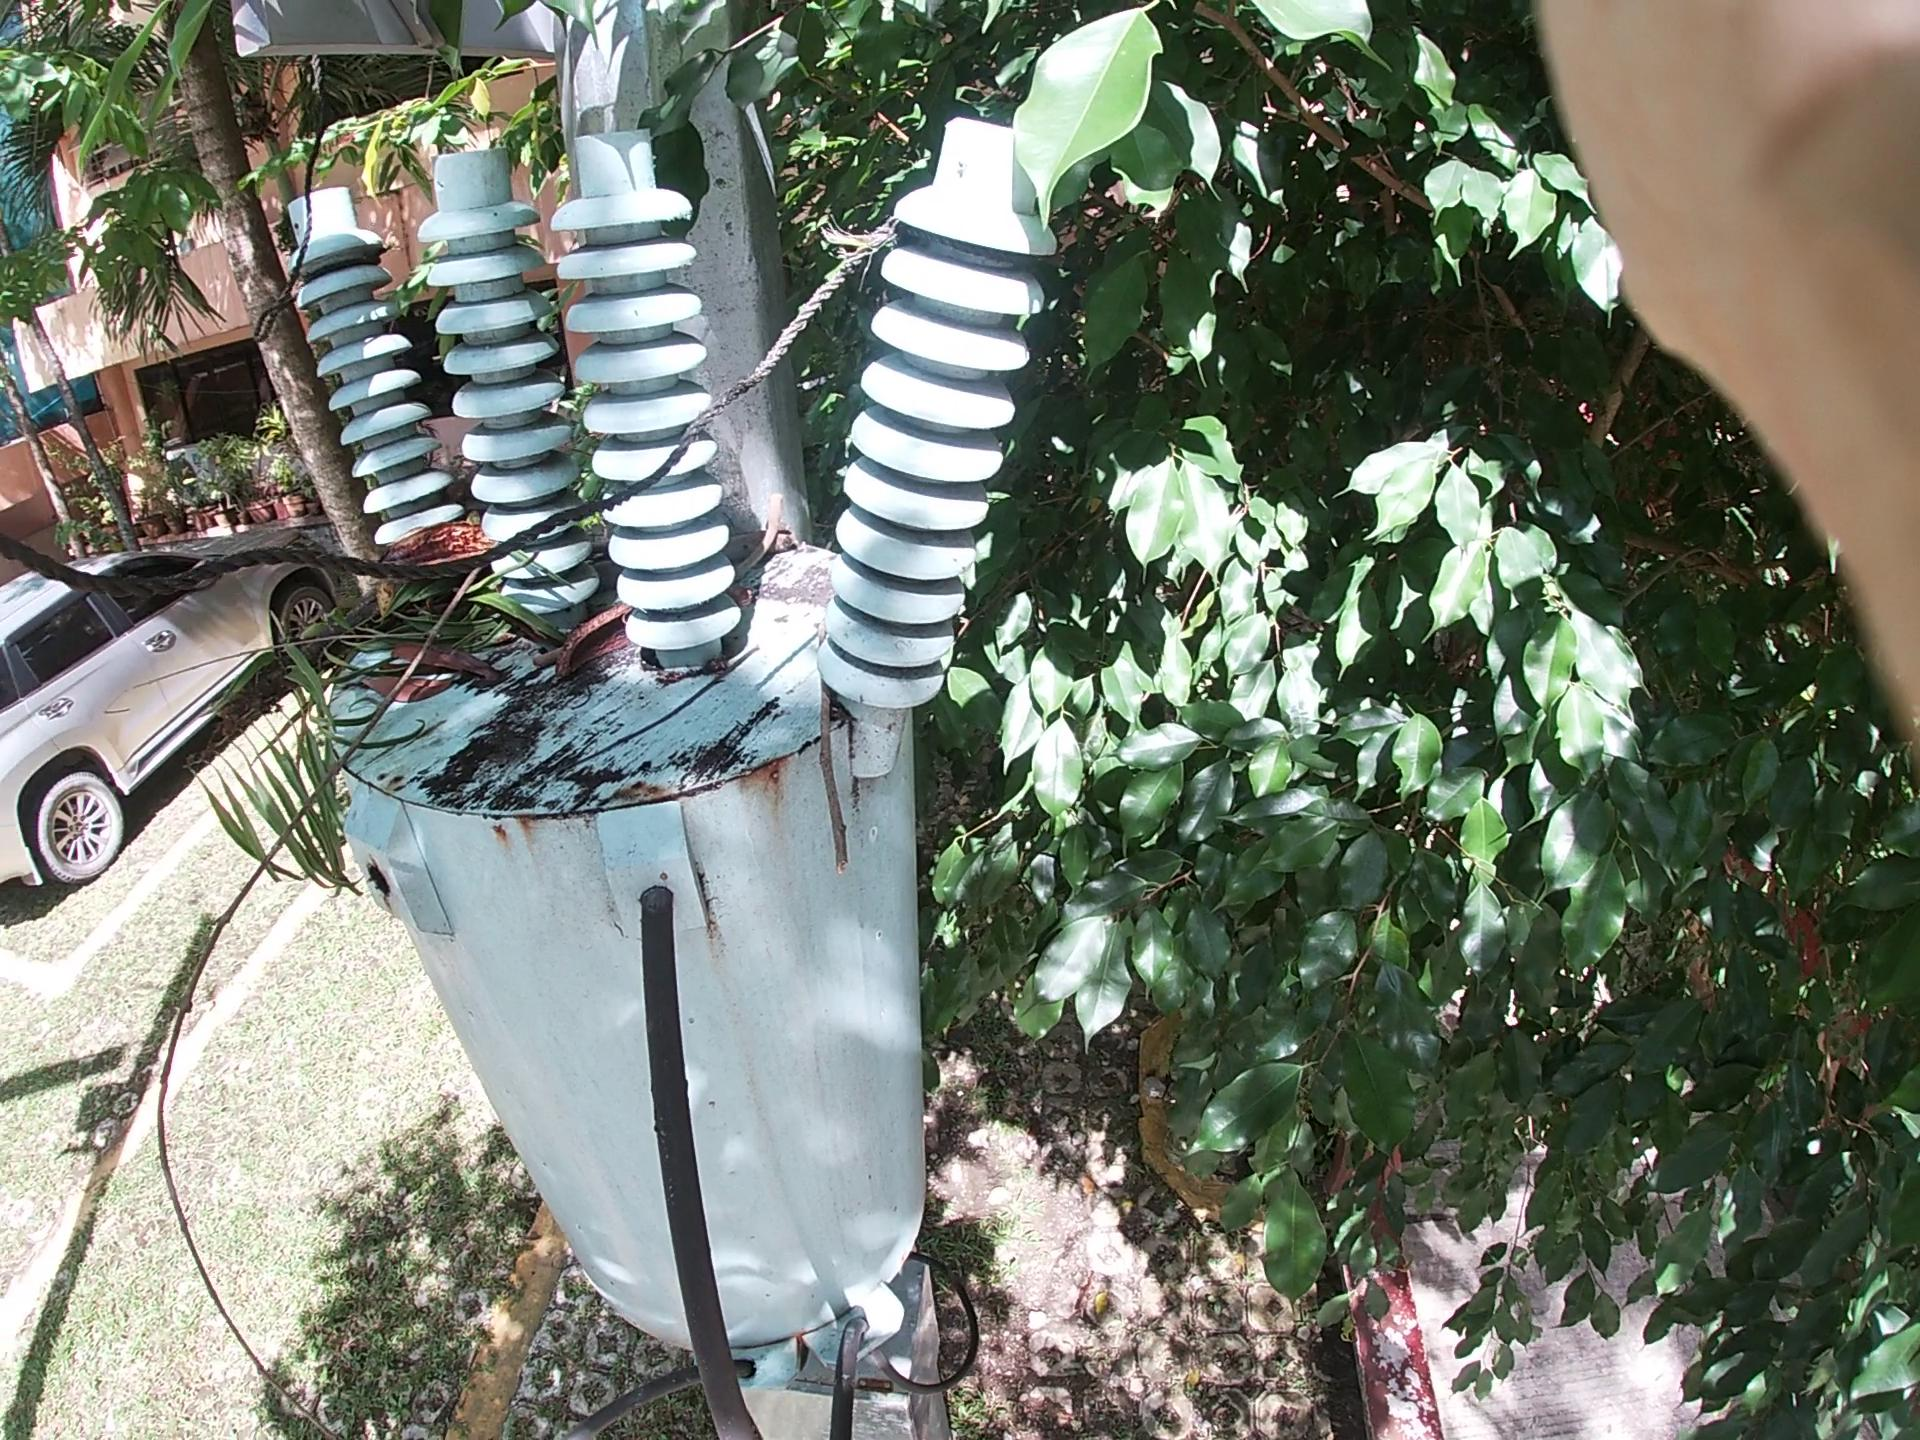branch with leaves: (239, 451, 594, 731)
leaf: (364, 610, 482, 729)
mahogany fruit: (517, 555, 745, 702), (373, 476, 522, 625)
tree branch: (148, 526, 488, 1054), (550, 433, 810, 663), (774, 579, 848, 858)
